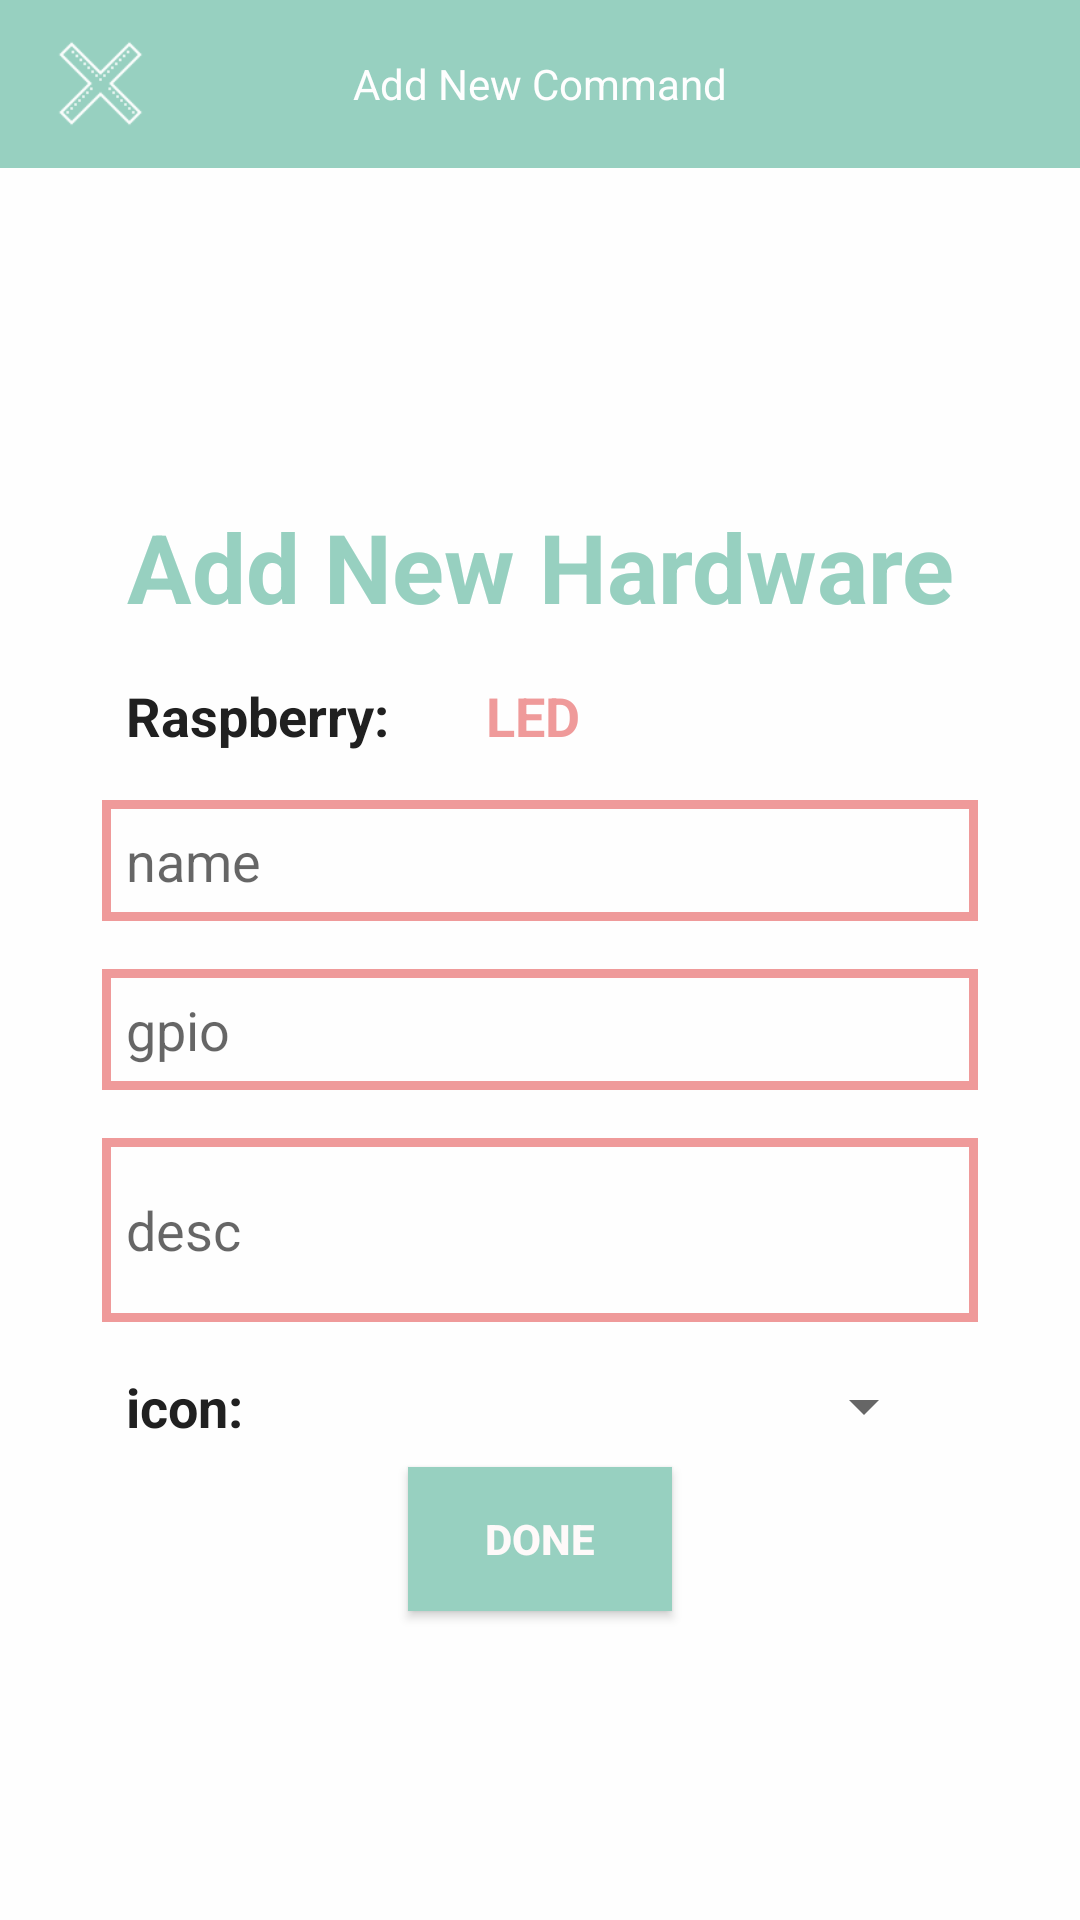

Named icons in this screenshot (1080px×1920px) and their bounding boxes, (x1, y1, x2, y2):
close: (59, 42, 142, 125)
